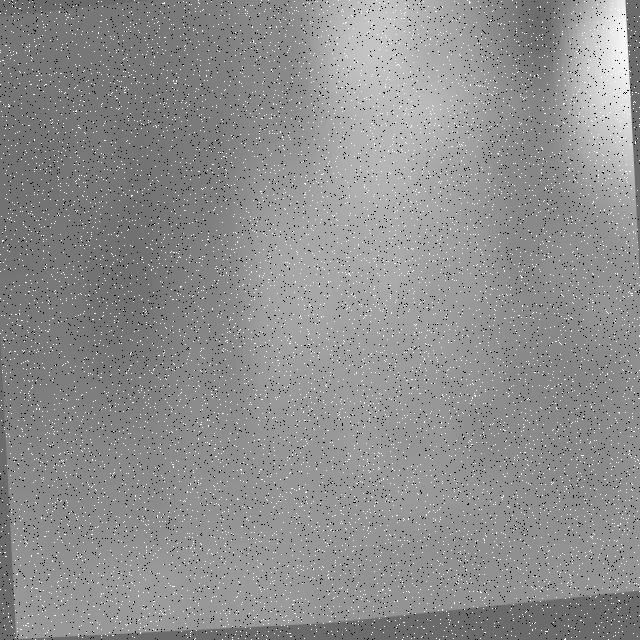person: (545, 1, 640, 330)
